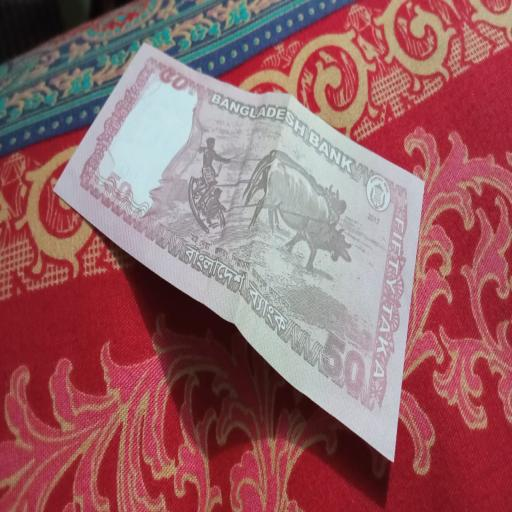50taka: (52, 40, 426, 461)
